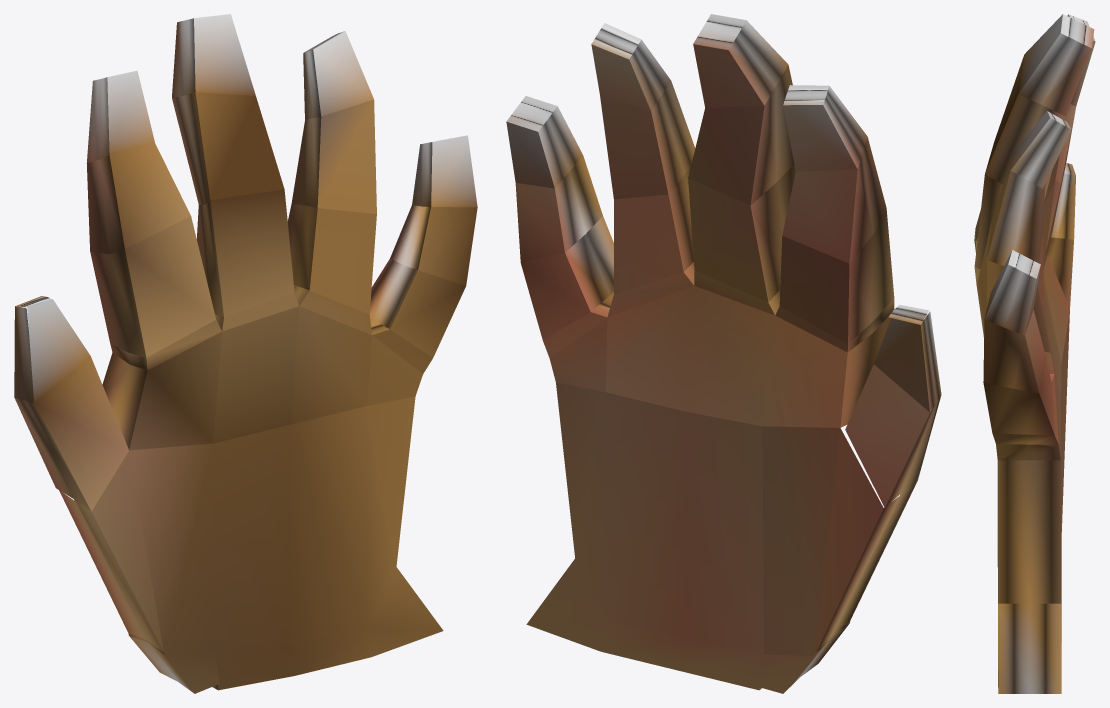
Rendered from hand.glb.
The picture shows the model from 3 angles, left to right: view 1: azimuth 30°, elevation 25°; view 2: azimuth 150°, elevation 25°; view 3: azimuth 270°, elevation 25°; orthographic projection. The views are drawn at different scales.
Visible parts, largest first — view 1: Cube; view 2: Cube; view 3: Cube.
Boxes of the visible parts, x1,y1,x2,y2 form: Cube: (14, 14, 477, 693); Cube: (506, 14, 941, 693); Cube: (974, 14, 1095, 693).
Bounding box in the file's own units: 2.15 × 3.12 × 0.5784.
